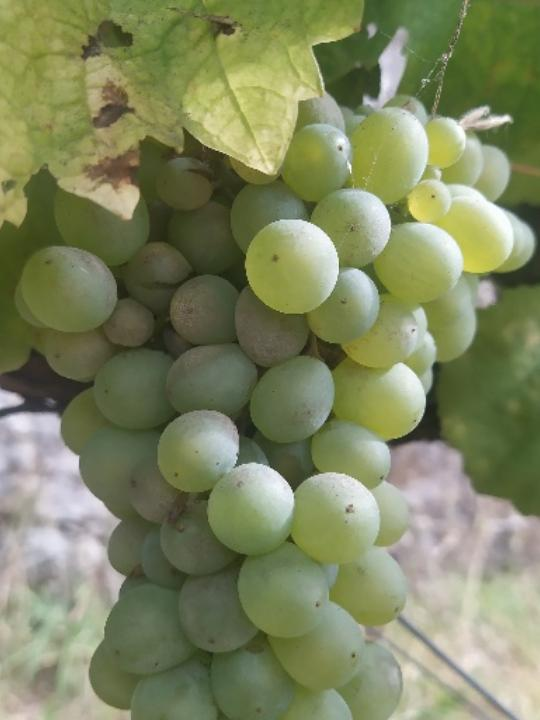grape: (16, 88, 540, 720)
